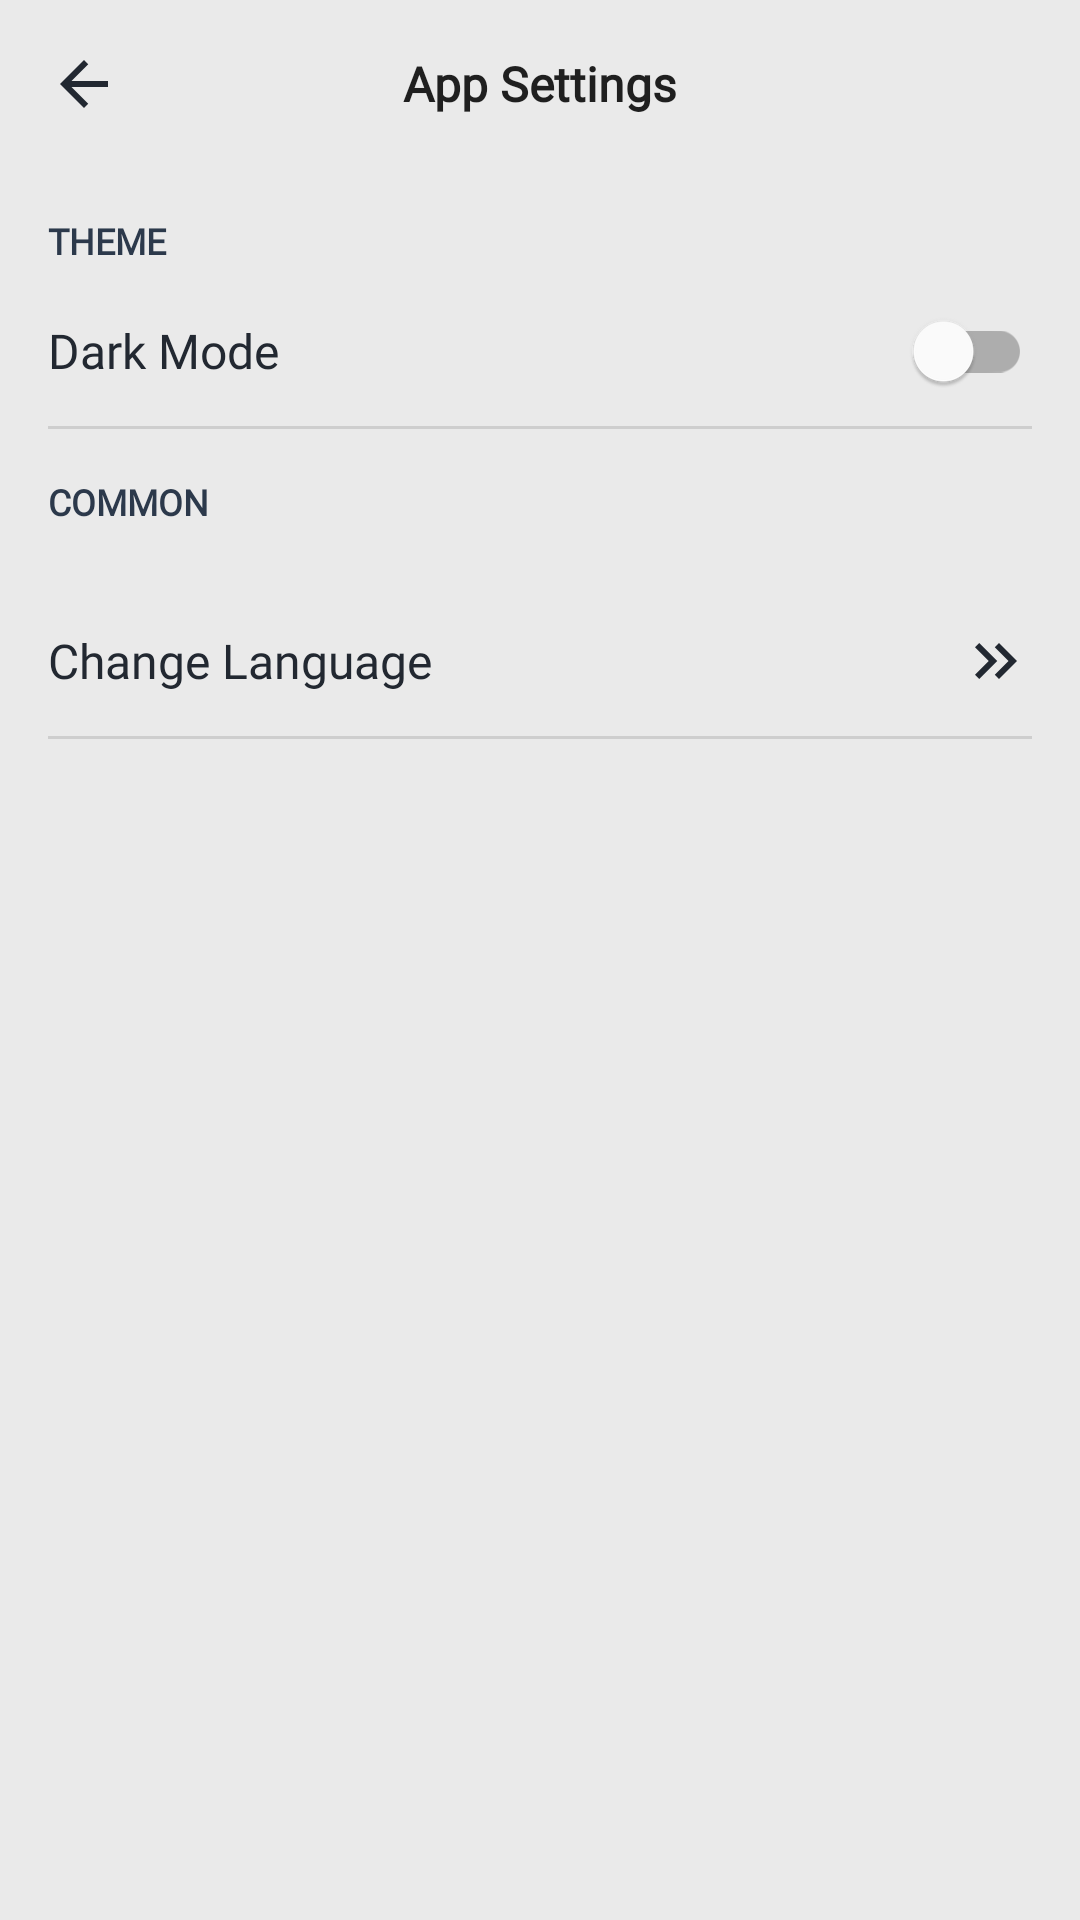

Icon bounding boxes for this 1080*1920 phone screenshot, format bbox=[x1, y1, x2, y2]:
Back: bbox=[60, 60, 108, 108]
